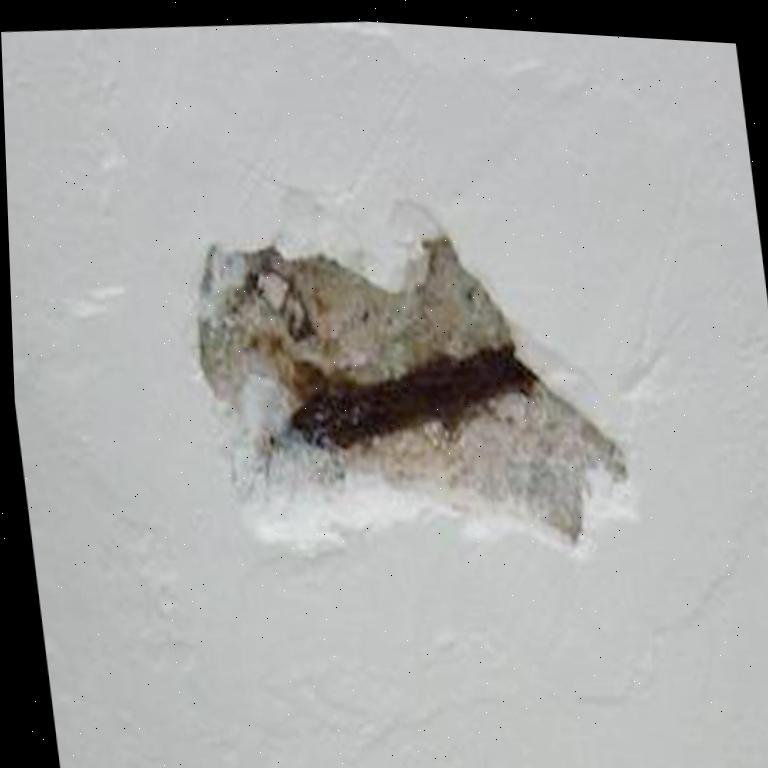exposed_rebar: (290, 343, 538, 448)
spalling: (200, 235, 626, 539)
